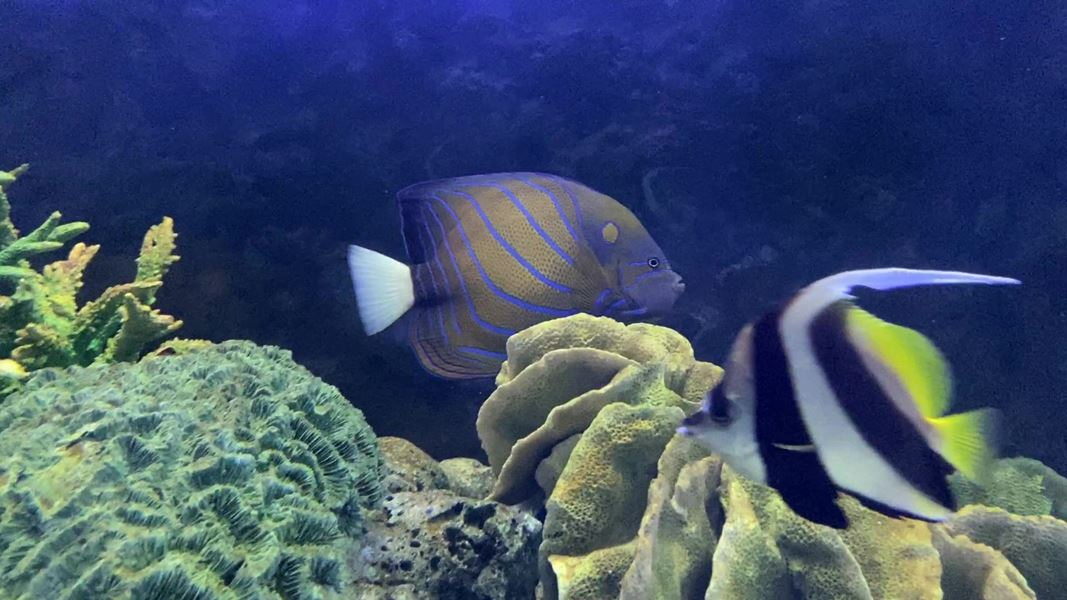Blue ring angelfish: (330, 163, 713, 392)
